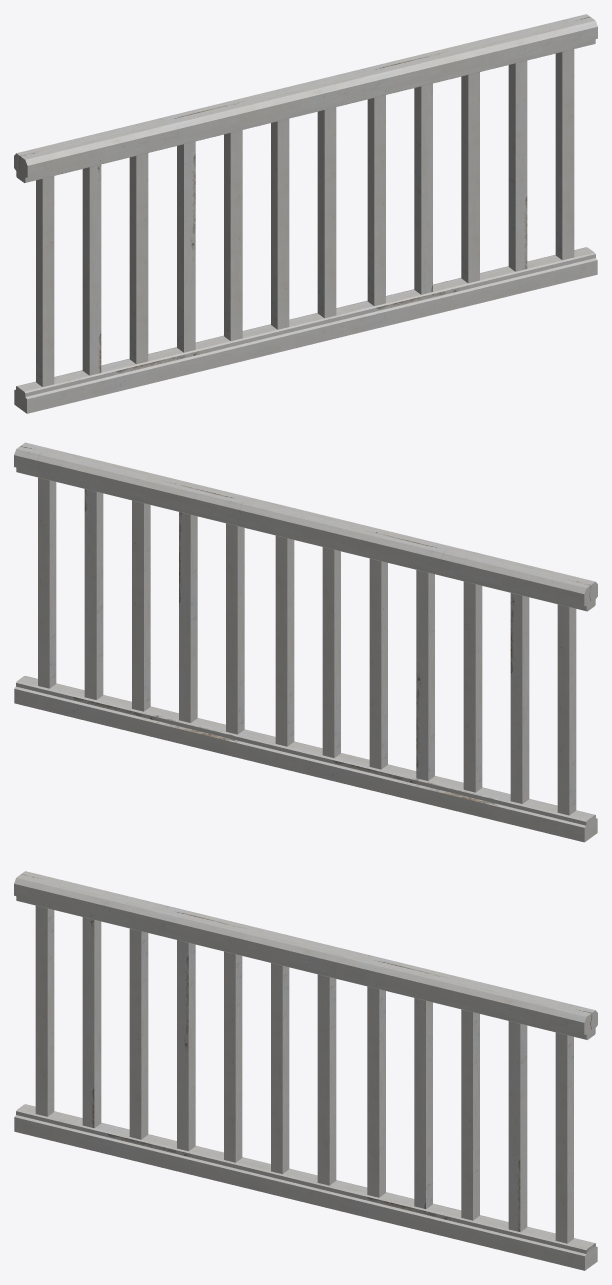
File: Porch_Rail_2x.FBX
3 renders of one model, top to bottom at view 1: azimuth 30°, elevation 25°; view 2: azimuth 150°, elevation 25°; view 3: azimuth 330°, elevation 25°, orthographic.
Parts seen in each view (by area): view 1: Porch_Rail_2x; view 2: Porch_Rail_2x; view 3: Porch_Rail_2x.
Boxes of the visible parts, bbox=[...] form: Porch_Rail_2x: bbox=[14, 14, 597, 413]; Porch_Rail_2x: bbox=[14, 442, 597, 842]; Porch_Rail_2x: bbox=[14, 871, 597, 1270].
Size of the model in its own units: 200 by 84.7 by 8.23.
